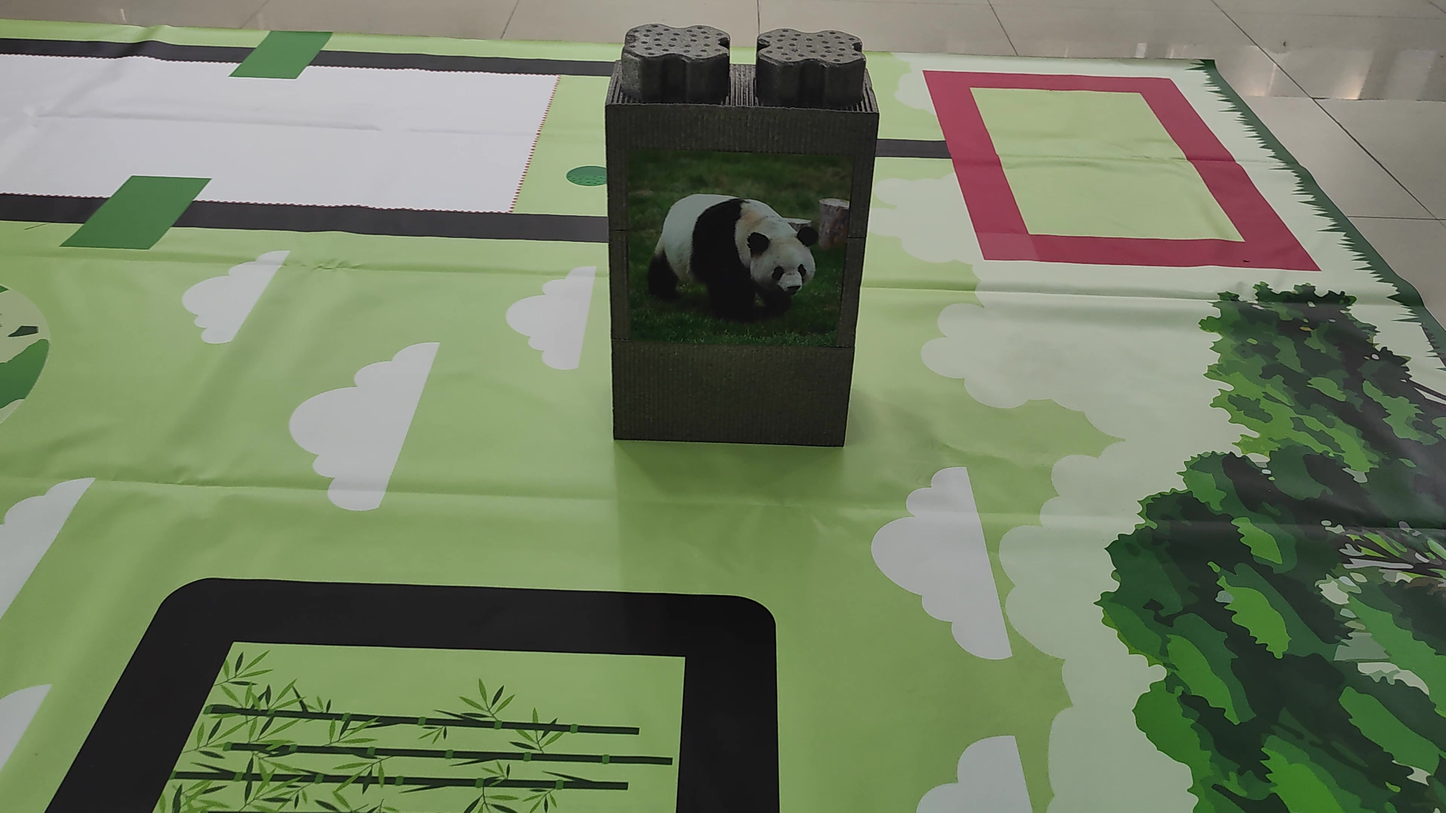panda: (642, 168, 823, 341)
